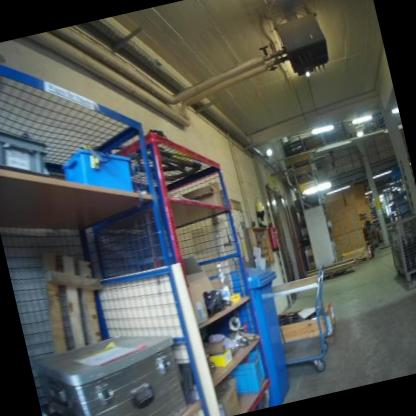small_load_carrier: (59, 137, 140, 209), (0, 112, 54, 191), (223, 347, 270, 400)
stillage: (382, 213, 416, 287)
